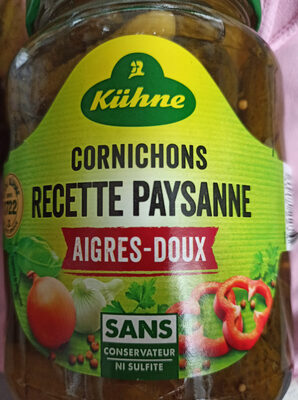Cornichons aigres-doux Recette Paysanne: (15, 20, 283, 380)
